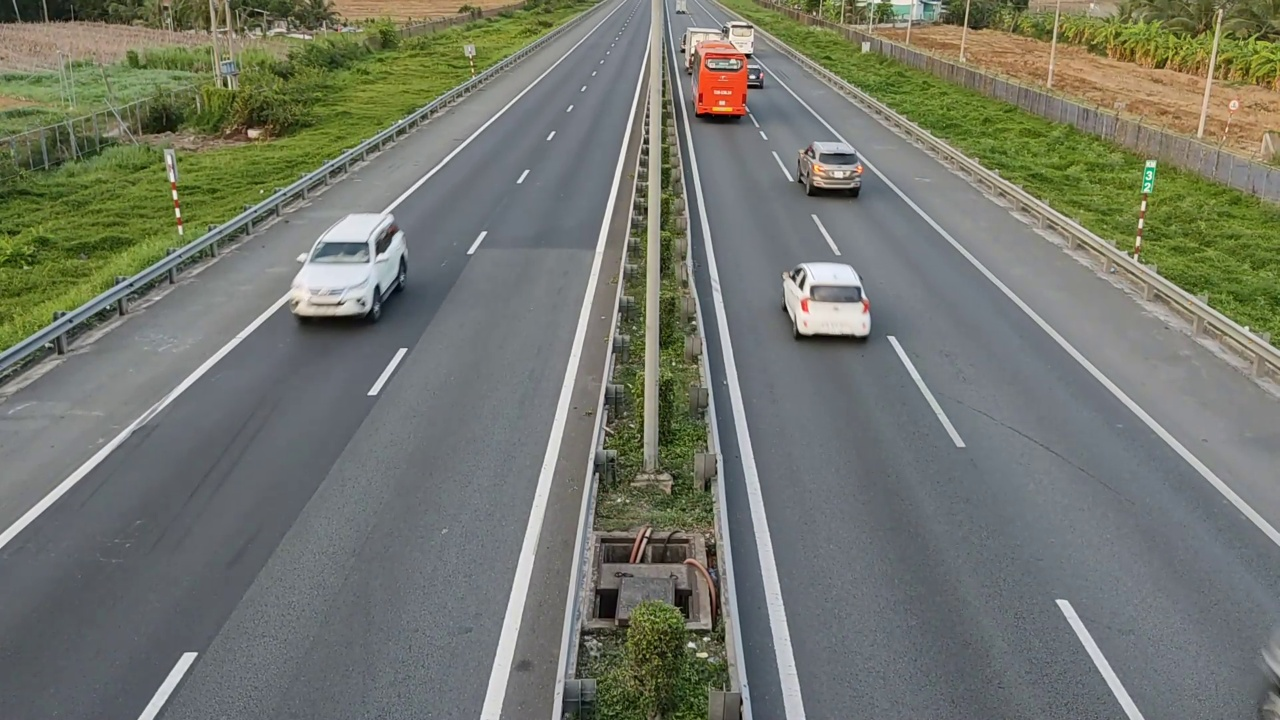car: (287, 211, 409, 322), (781, 260, 873, 339), (796, 140, 865, 196)
